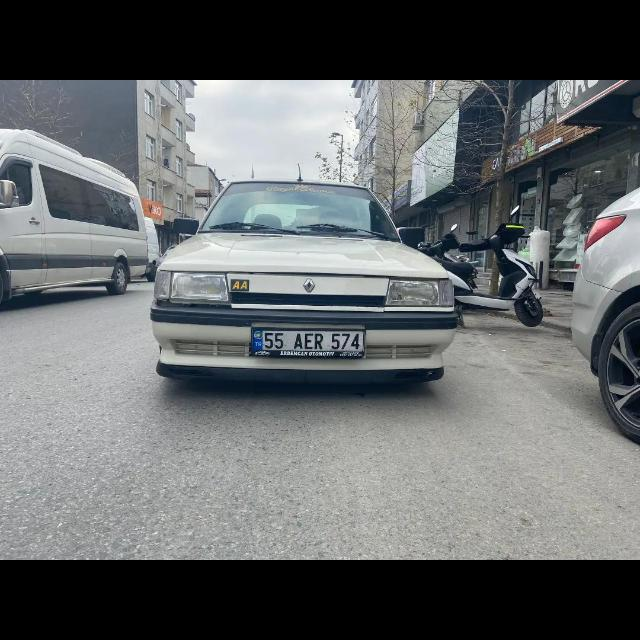Plaka: (250, 331, 362, 351)
